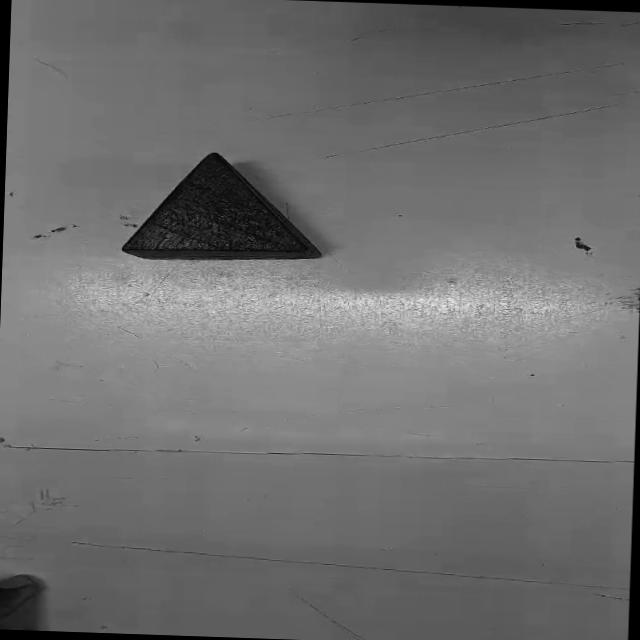btriangle: (115, 147, 330, 266)
